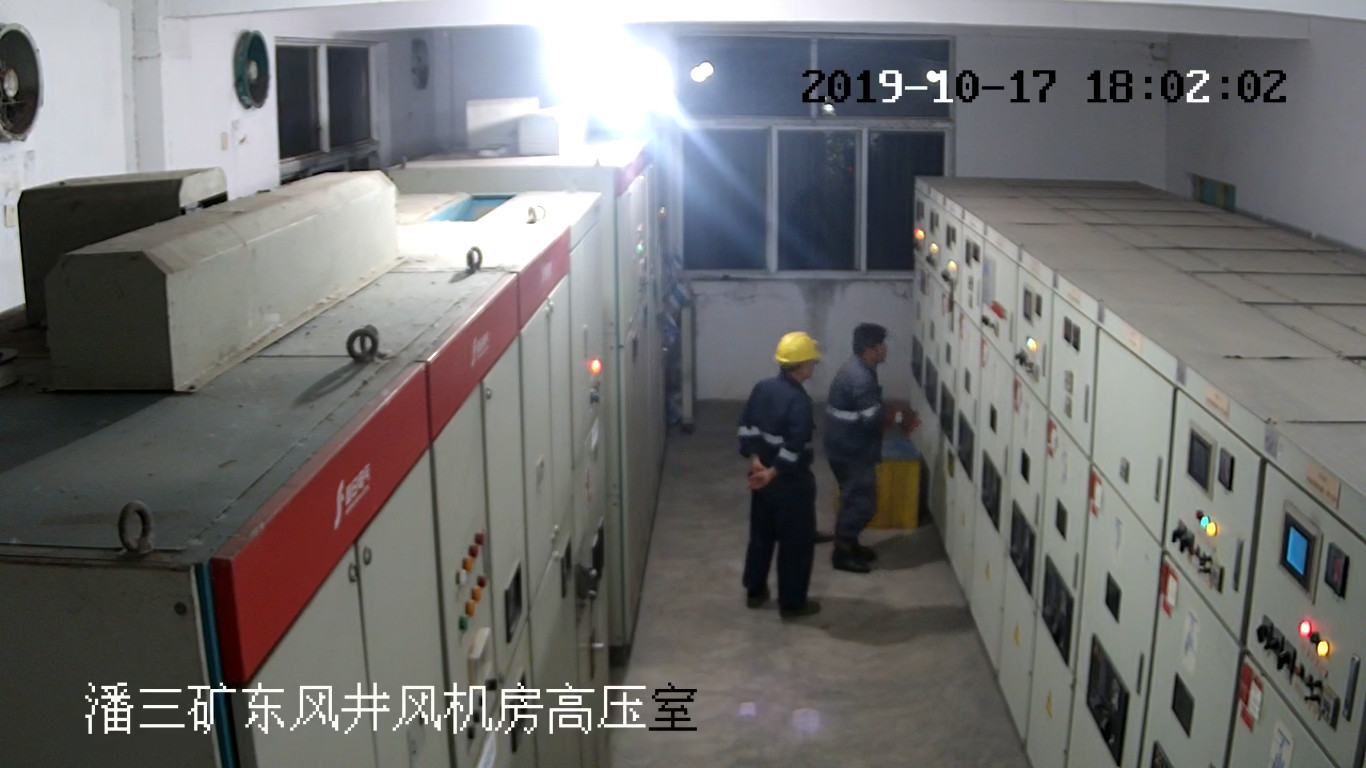helmet: (773, 330, 821, 367)
